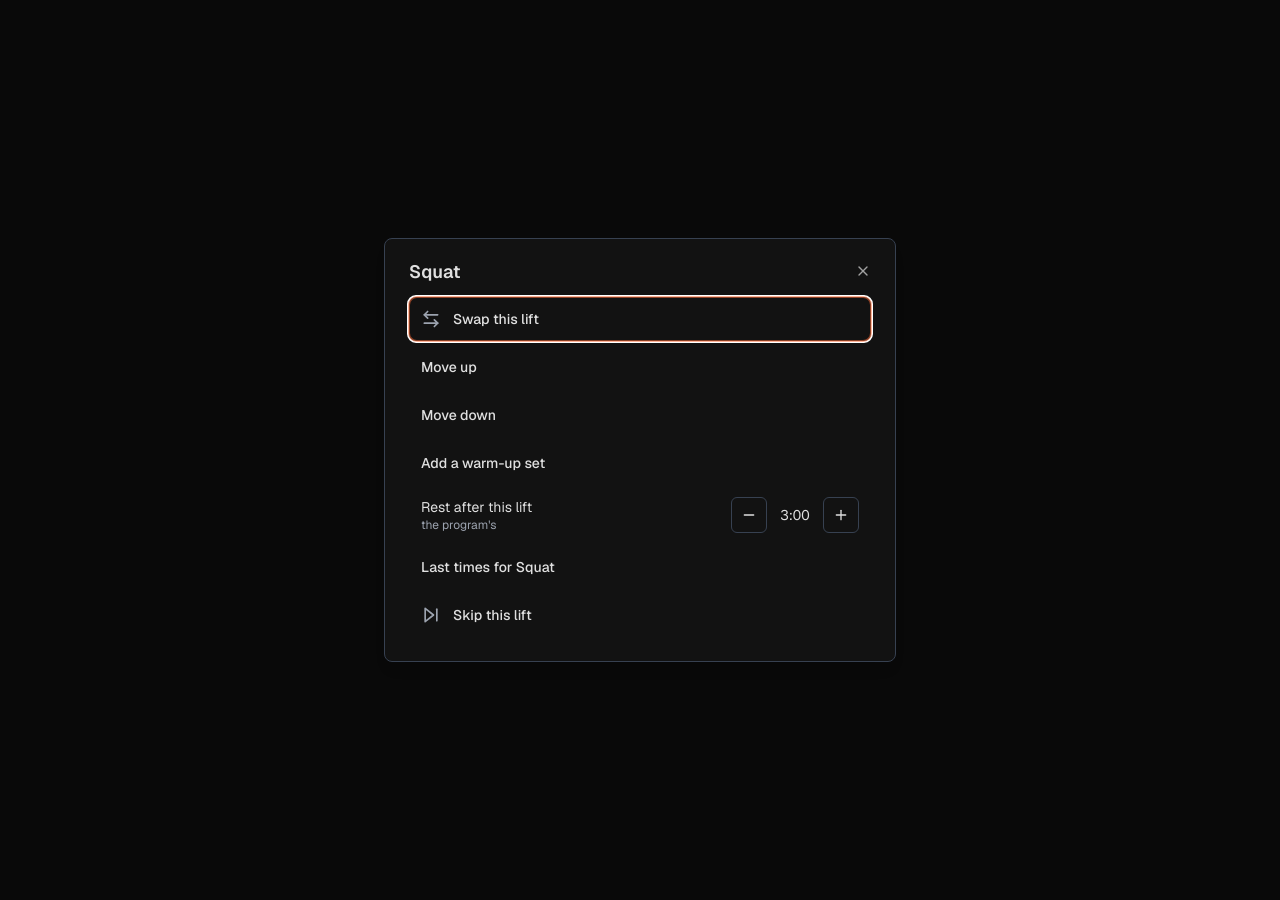
Scenario: swapping a lift › opens the same search that adding a lift uses, already open
Step 1. Click the button with test id "lift-swap" → (496, 319), box top-left (409, 297), bottom-right (871, 341)
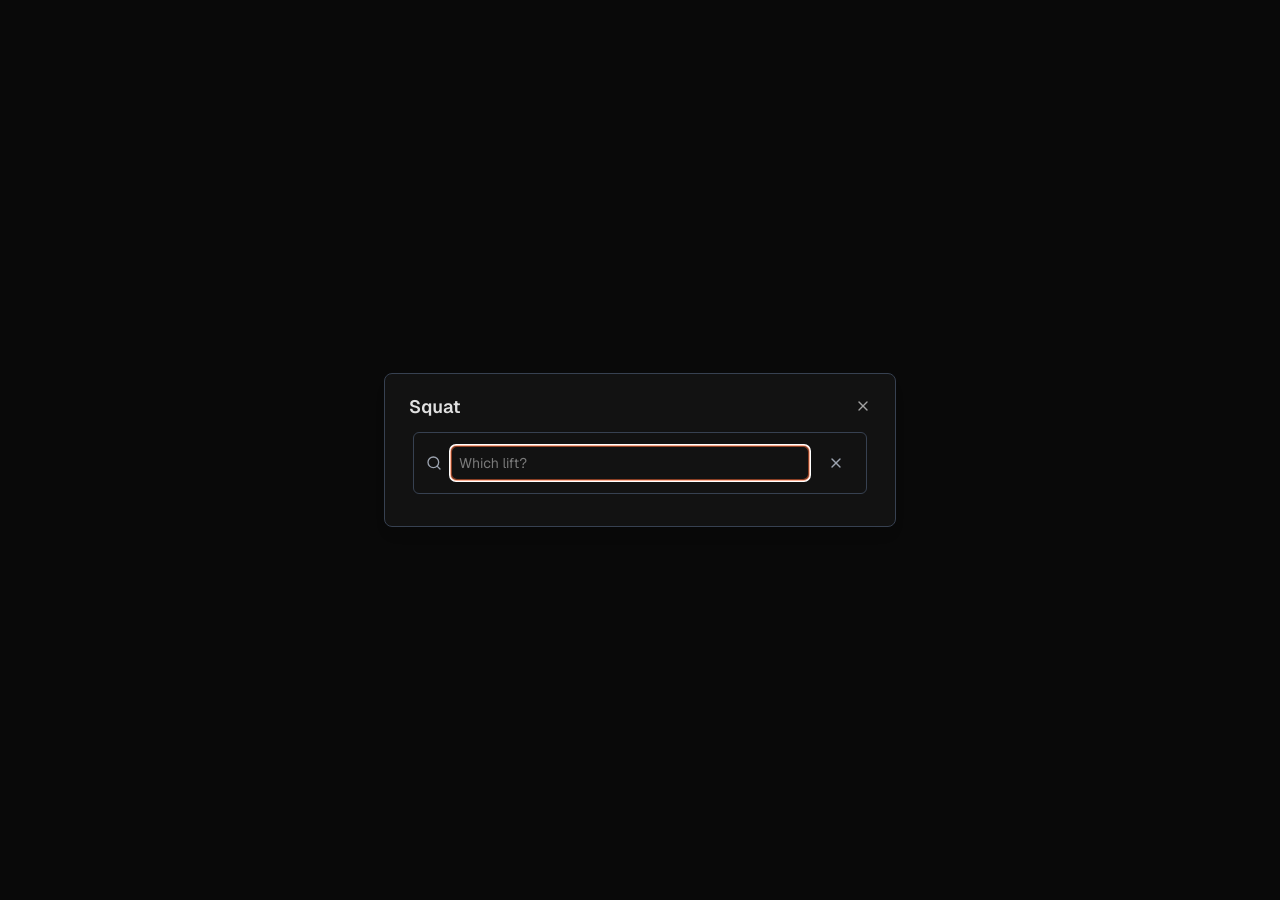
expect the field with test id "add-lift-search" is shown: met, box top-left (450, 445), bottom-right (810, 481)
